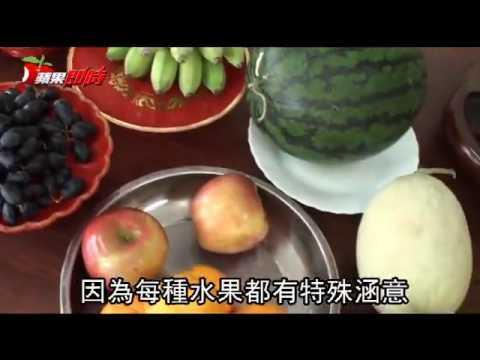apple: (79, 206, 169, 283)
